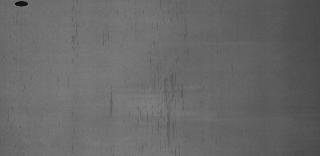oil spot: (133, 24, 185, 148), (64, 10, 84, 56), (105, 88, 121, 123)
punching hole: (14, 0, 32, 7)
